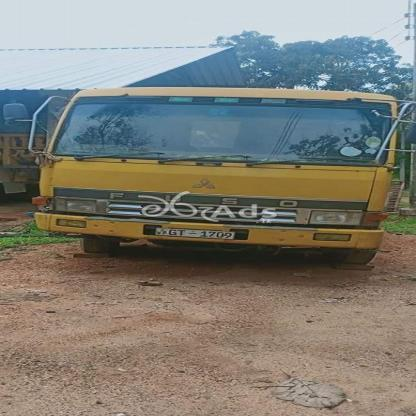truck: (31, 93, 406, 260)
